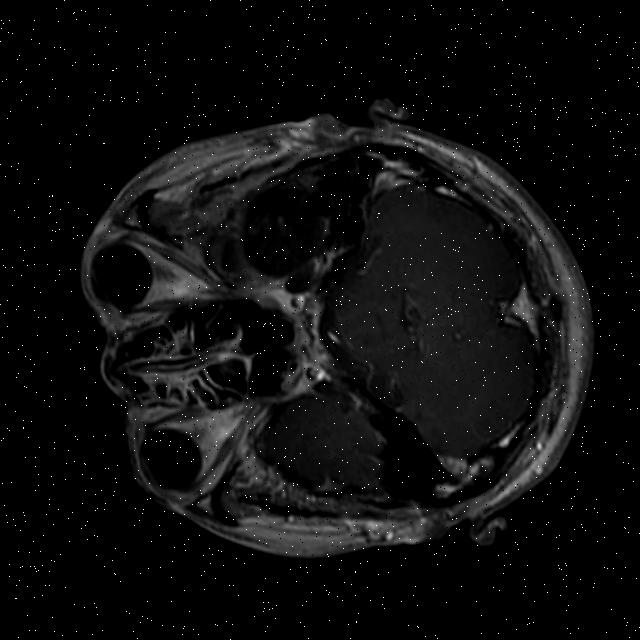Glioma: (226, 173, 337, 284)
